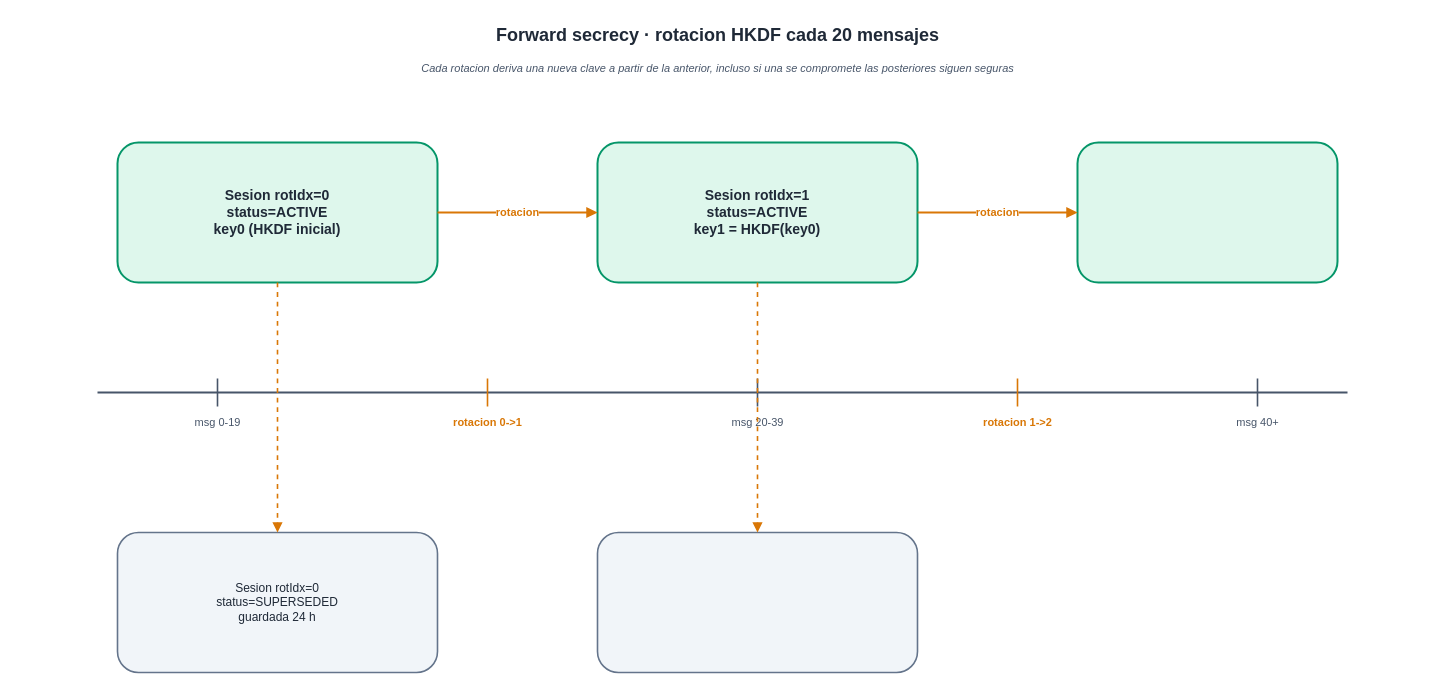
The diagram is 1434 pixels wide and 690 high, and some of its shapes have lost their labels. The box of each missing label's shape, as (x1, y1, x2, y2) in pixels:
Sesion rotIdx=1 status=SUPERSEDED guardada 24 h: (596, 531, 918, 673)
Sesion rotIdx=2 status=ACTIVE key2 = HKDF(key1): (1076, 141, 1338, 283)
